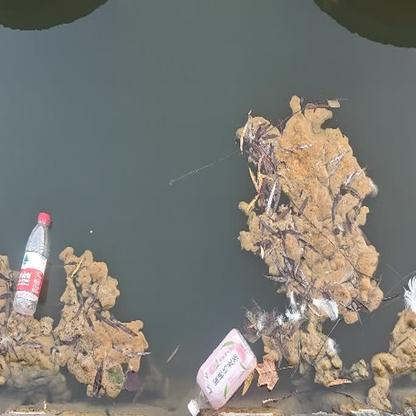plastic bottle: (186, 327, 259, 415), (13, 211, 50, 316)
